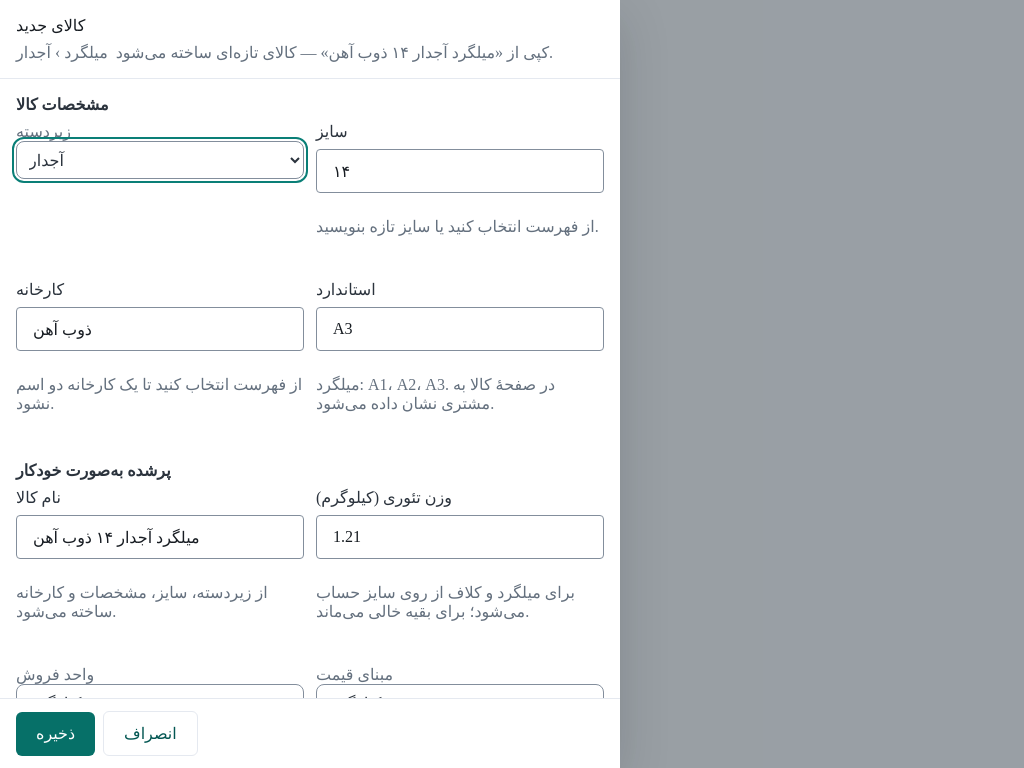
Scenario: «تکثیر» › re-derives the name and URL as soon as a field is changed
Replace the text in the field labelled "سایز" with "۱۶": (460, 171) [316,149,604,193]
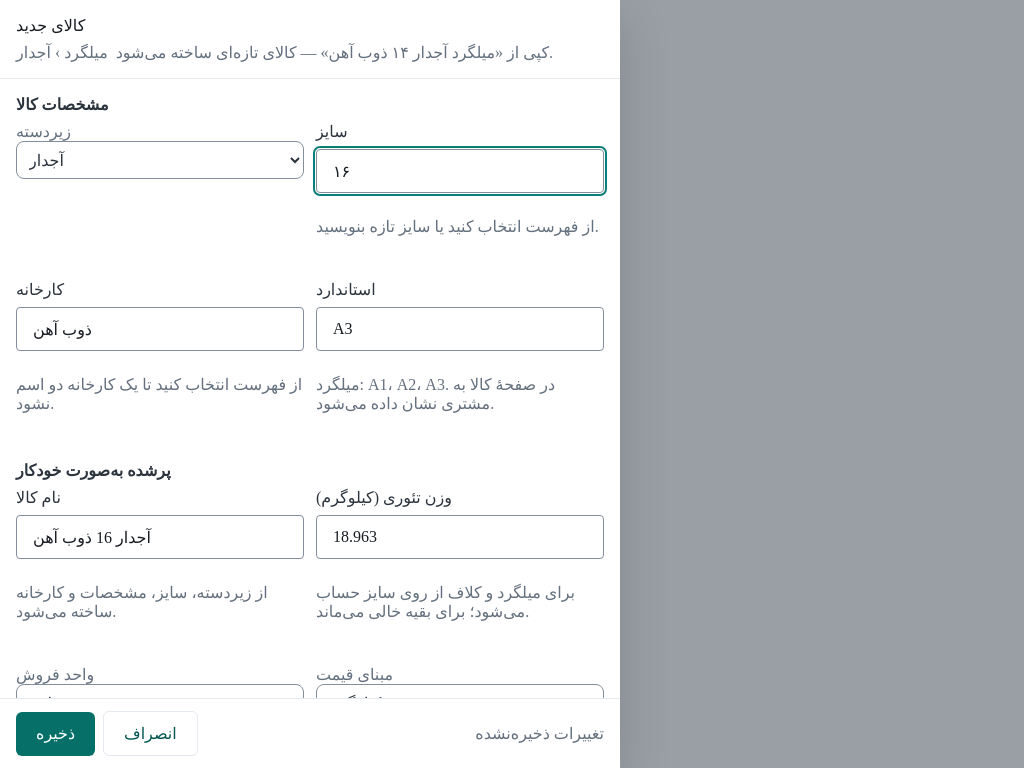
Expected: the field labelled "نام کالا" does not hold "میلگرد آجدار ۱۴ ذوب آهن", [16,515,304,559]
